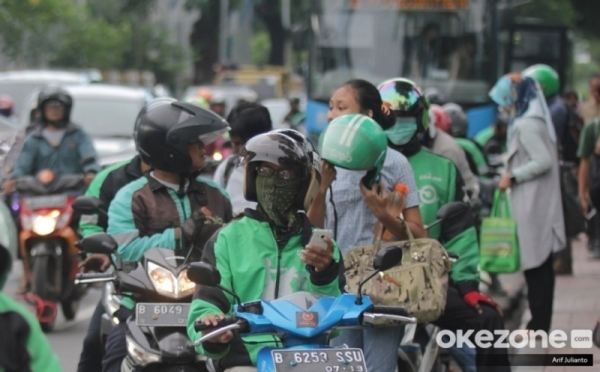plate: (273, 349, 366, 372), (137, 302, 196, 327)
